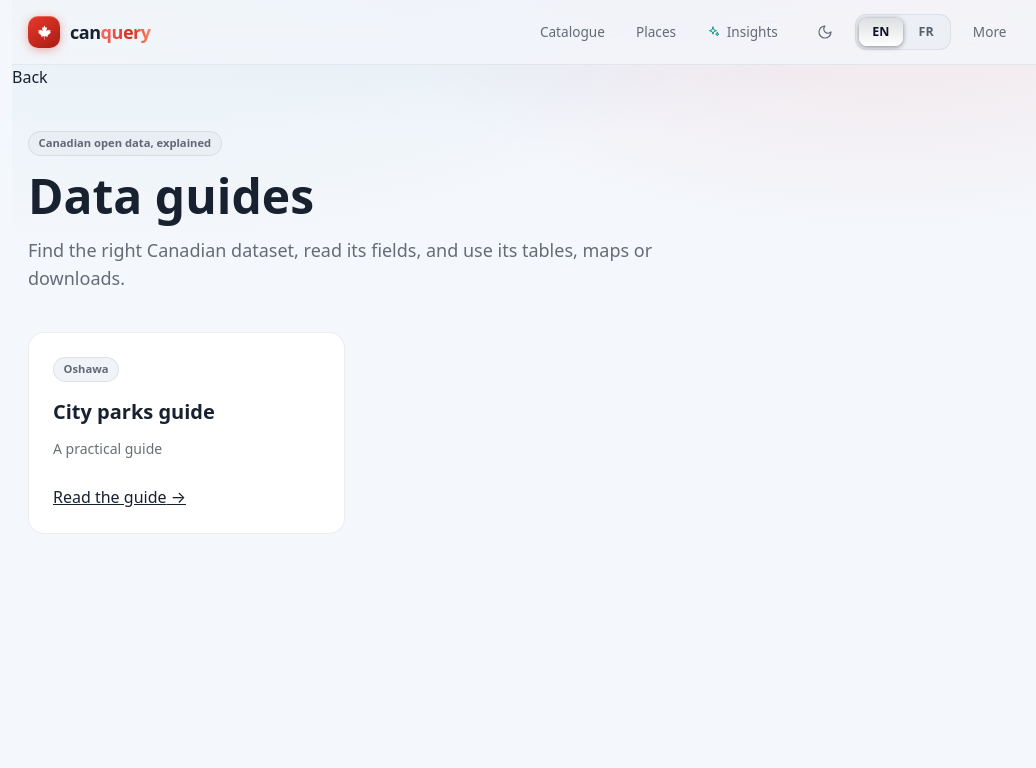
Test: the blog index links to complete guides
Check: the heading "Data guides" is shown, box [28, 163, 314, 228]
Click the link "City parks guide" at (134, 412), box [53, 398, 215, 425]
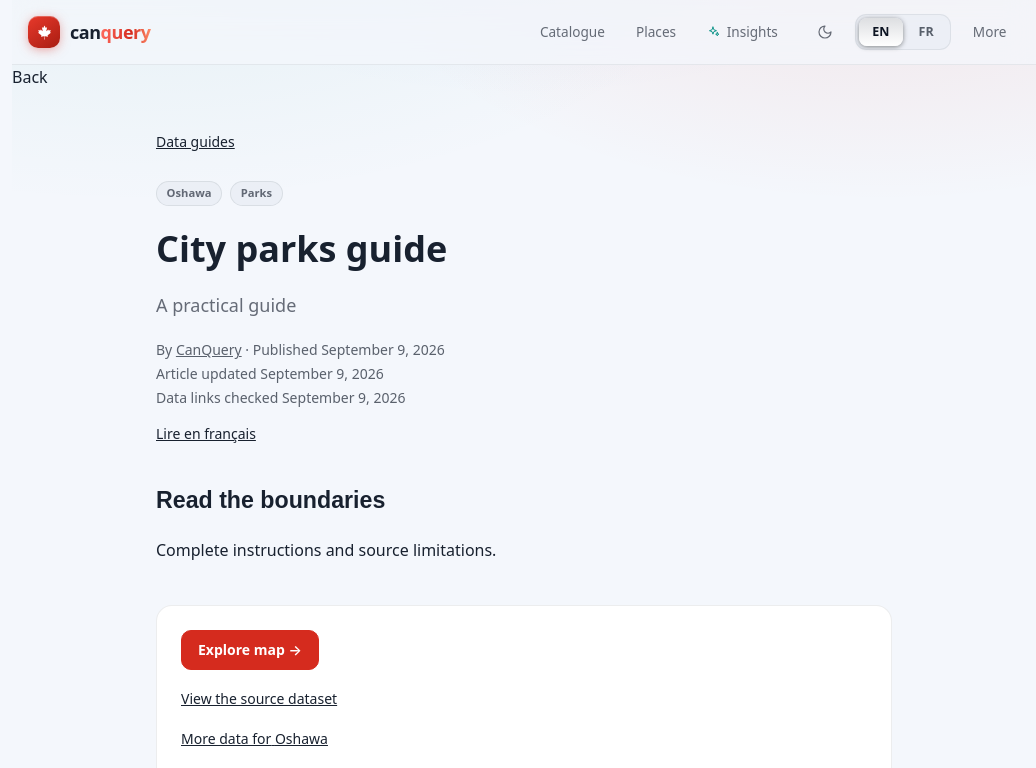
Check: the heading "Read the boundaries" is shown, box [156, 487, 385, 513]
